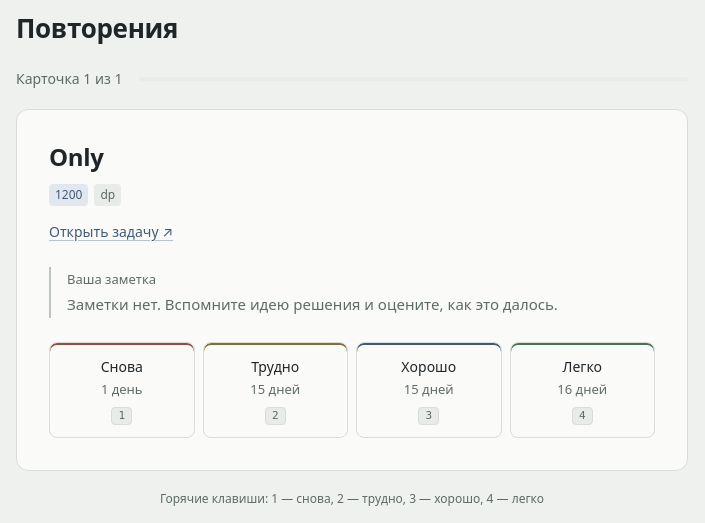
Scenario: <ReviewsPage> › answers by clicking a button too
The image size is (705, 523).
Check: the heading "Only" is shown, box [49,140,104,172]
Click the button "Хорошо 15 дней 3": [429, 390] box [356,342,502,438]
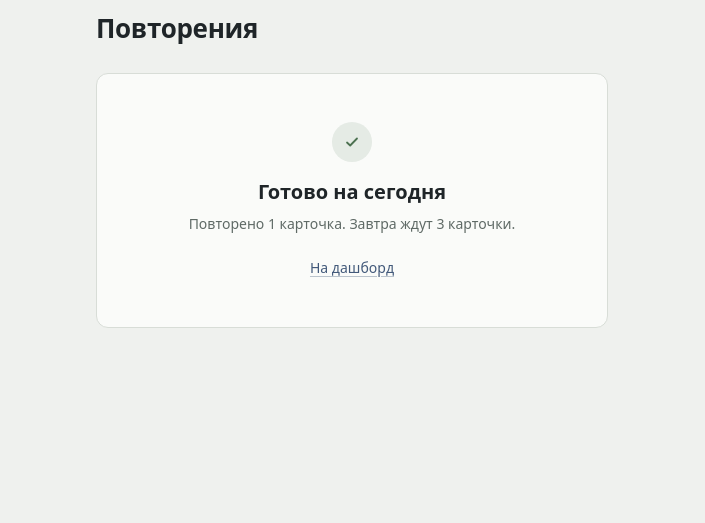
Check: the text "Готово на сегодня" is shown, box [258,178,446,204]
